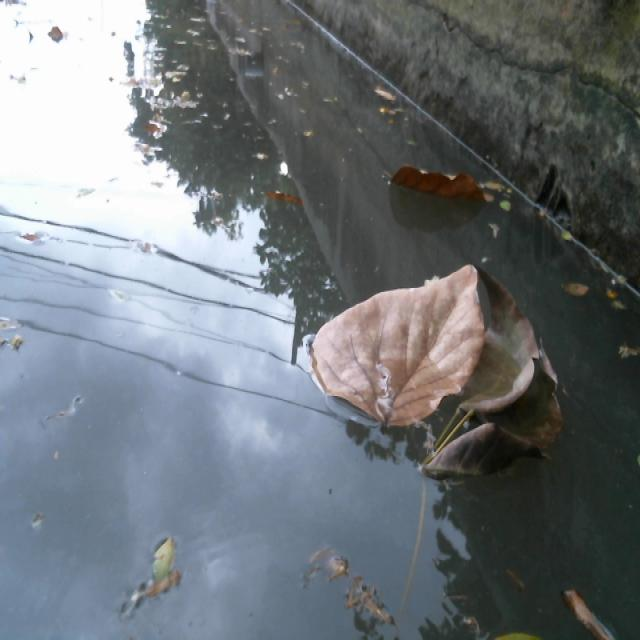Big-leaf: (385, 146, 505, 206)
Small-leaf: (118, 518, 179, 621), (261, 177, 317, 226), (132, 108, 182, 152), (554, 269, 602, 309), (376, 72, 407, 119), (493, 190, 525, 227), (484, 624, 545, 640)
